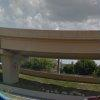Bridge: (3, 19, 96, 63)
